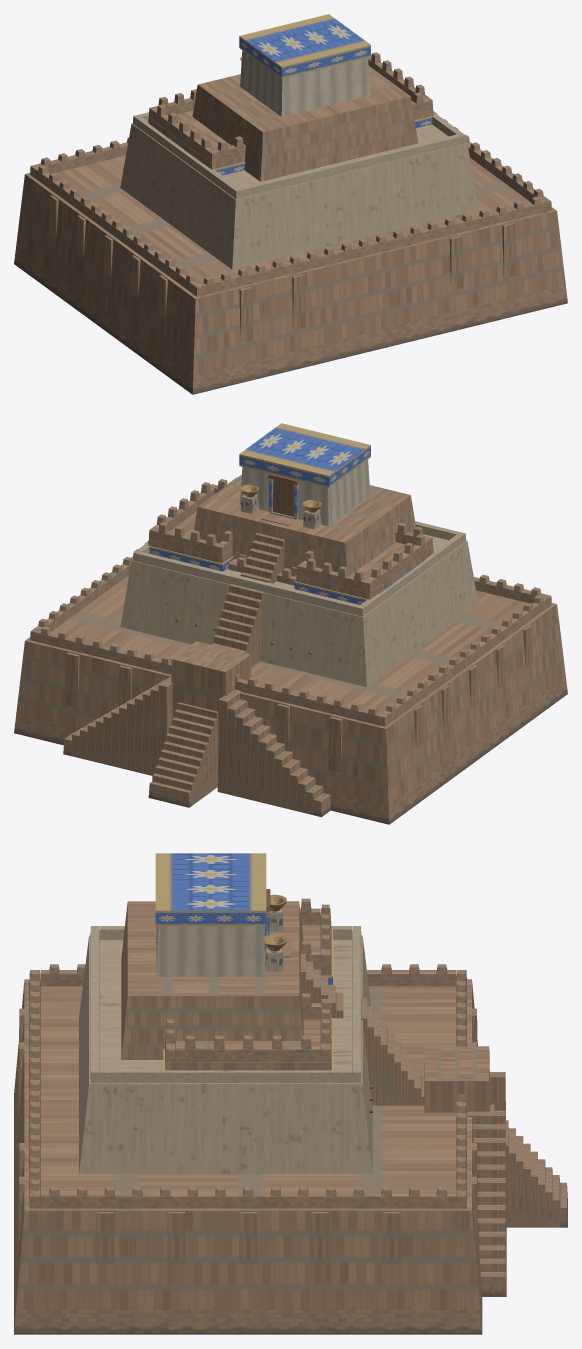
Rendered from mesopotamia_city_kit.glb.
3 views of the same model, one above another, from view 1: azimuth 30°, elevation 25°; view 2: azimuth 150°, elevation 25°; view 3: azimuth 270°, elevation 25° (orthographic). The views are drawn at different scales.
Parts seen in each view (by area): view 1: ur_ziggurat_temple_LOD0, ur_city_gate_LOD0; view 2: ur_ziggurat_temple_LOD0, ur_city_gate_LOD0; view 3: ur_ziggurat_temple_LOD0, ur_city_gate_LOD0.
Boxes of the visible parts, bbox=[...] form: ur_ziggurat_temple_LOD0: bbox=[14, 14, 567, 394]; ur_city_gate_LOD0: bbox=[148, 52, 434, 175]; ur_ziggurat_temple_LOD0: bbox=[14, 423, 567, 824]; ur_city_gate_LOD0: bbox=[148, 479, 434, 604]; ur_ziggurat_temple_LOD0: bbox=[14, 853, 567, 1334]; ur_city_gate_LOD0: bbox=[163, 898, 332, 1070].
Size of what is drawn, in the model's own units: 22.84 by 14.9 by 22.28.
Materials: 1 (1 with a texture image).
